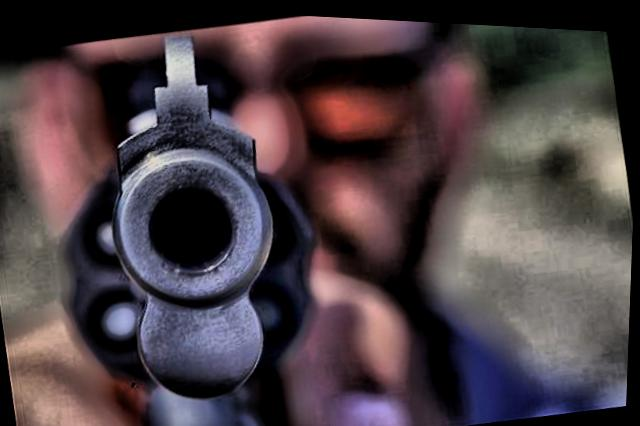pistol: (17, 7, 349, 426)
